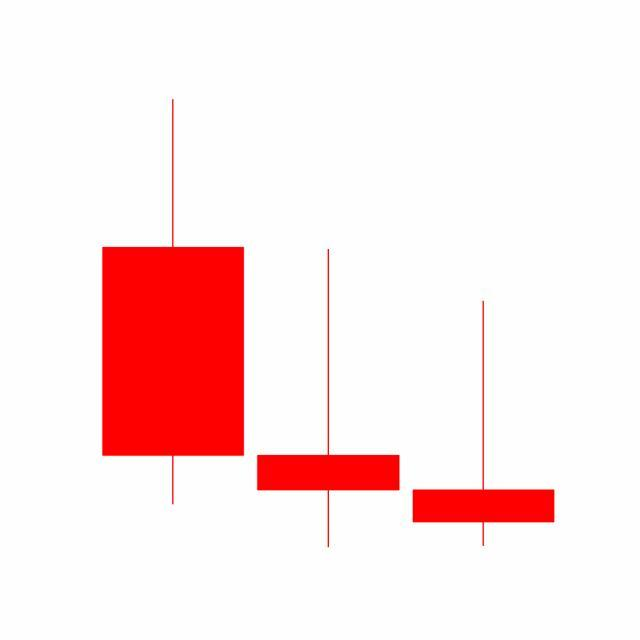Spinning Top: (250, 246, 407, 552)
